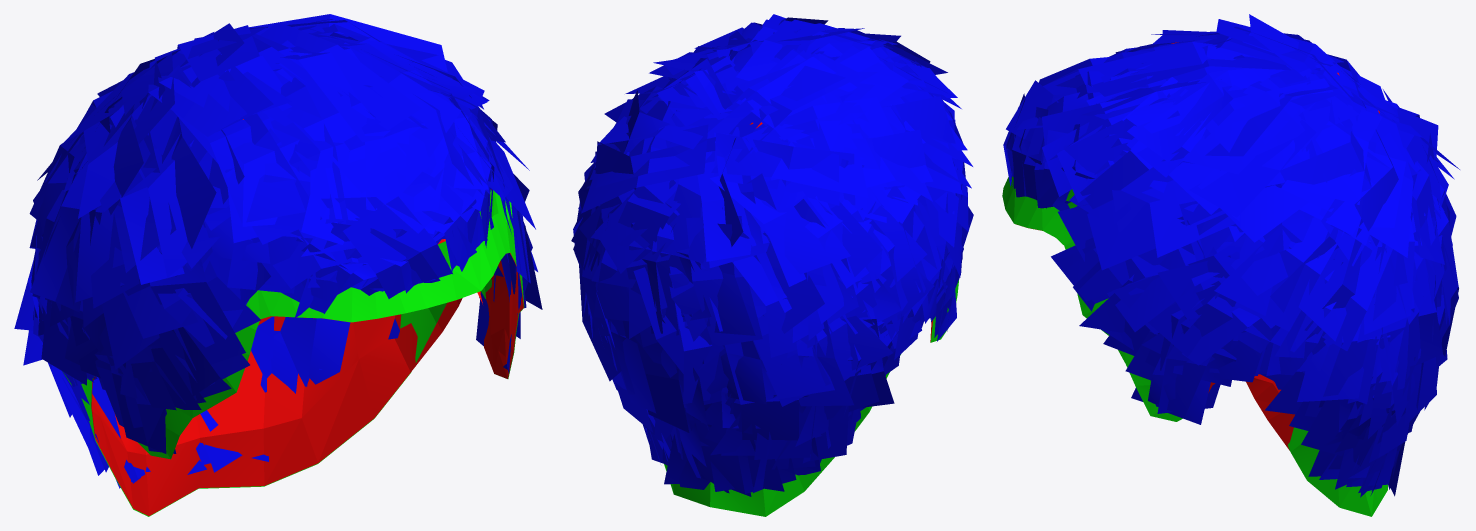
File: hair_010.obj
3 views of the same model, side by side, from view 1: azimuth 30°, elevation 25°; view 2: azimuth 150°, elevation 25°; view 3: azimuth 270°, elevation 25° (orthographic). The views are drawn at different scales.
Size of the model in its own units: 18.88 by 21.39 by 19.77.
